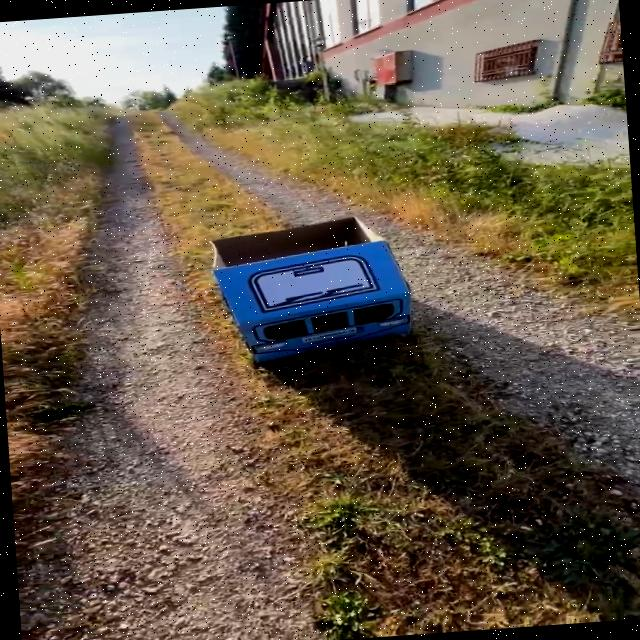blue_car: (152, 177, 473, 437)
